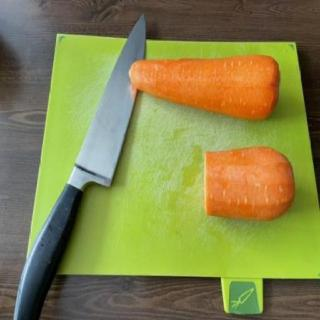carrot: (126, 54, 282, 121), (202, 144, 298, 224)
